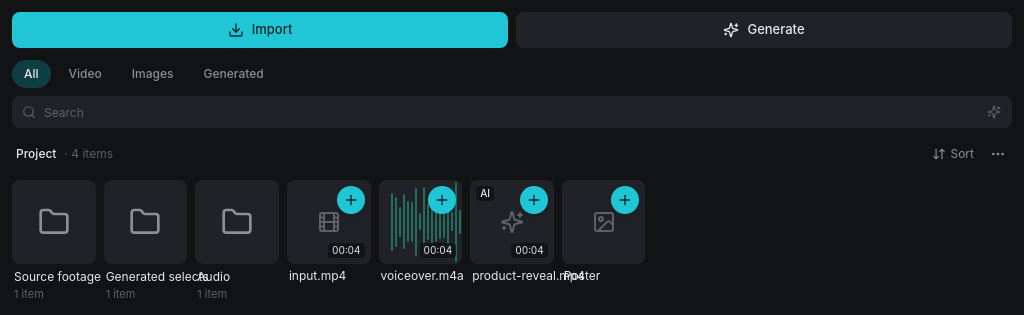
Scenario: MediaPanel browsing › filters by search and shows the count
Type "voice" into the search field named "Search project media" at [512, 112], box x1=12 y1=96 x2=1012 y2=128
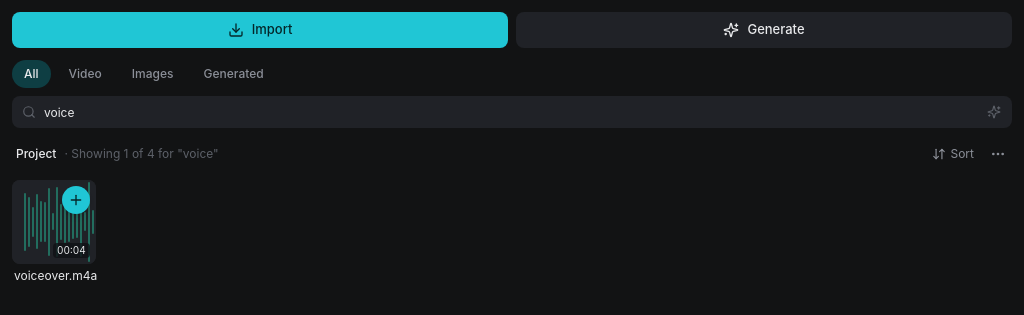
Expected: the navigation bar named "Folder path" shows "Showing 1 of 4 for \"voice\"", x1=71 y1=146 x2=219 y2=161
